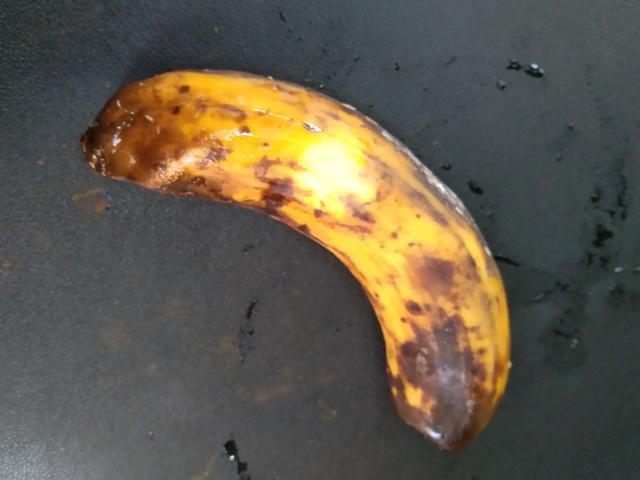rotten: (82, 44, 543, 479)
